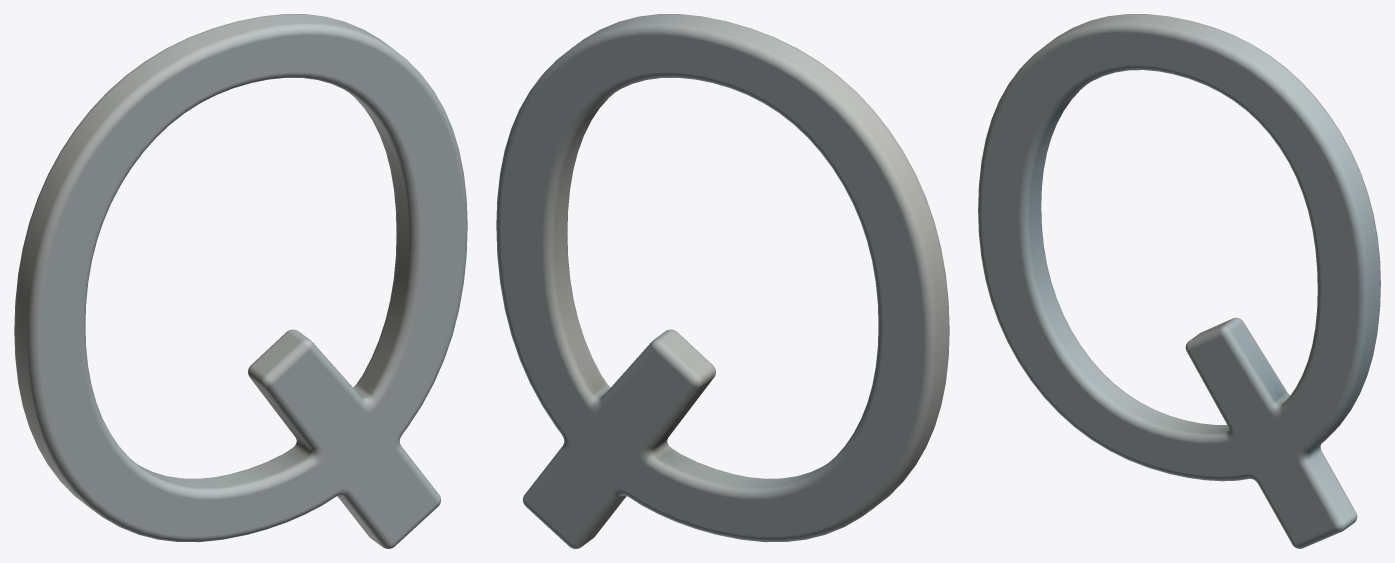
File: modelQ.glb
3 renders of one model, left to right at view 1: azimuth 30°, elevation 25°; view 2: azimuth 150°, elevation 25°; view 3: azimuth 330°, elevation 25°, orthographic. The views are drawn at different scales.
Parts seen in each view (by area): view 1: Q.1; view 2: Q.1; view 3: Q.1.
Part boxes in pixels (box(x1,y1,x2,y2)): Q.1: box(14, 14, 467, 548); Q.1: box(496, 14, 949, 548); Q.1: box(978, 14, 1380, 548).
Bounding box in the file's own units: 0.2686 × 0.3221 × 0.0226.
Materials: 1 (1 with a texture image).
